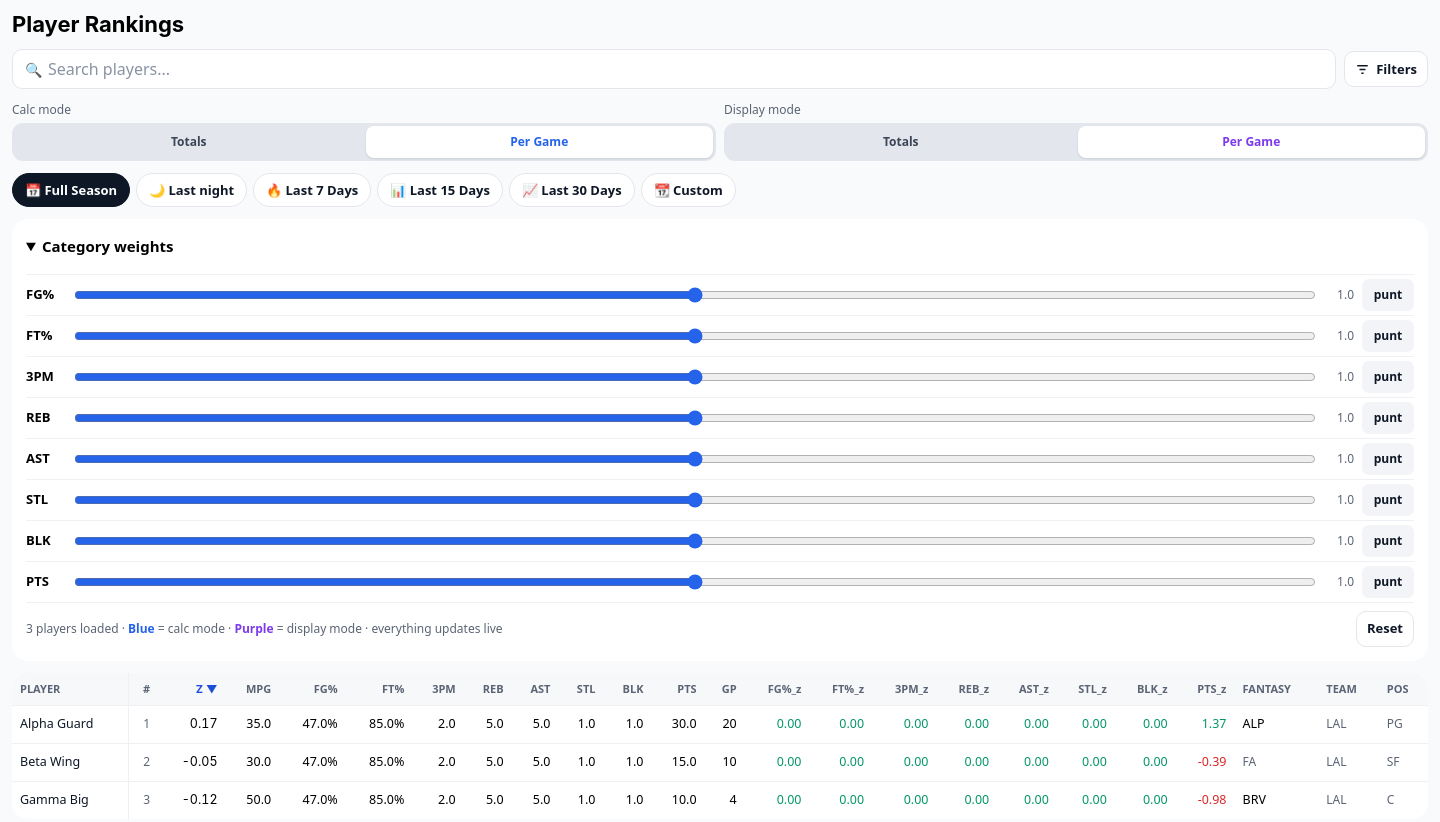
Test: Player Rankings · phone redesign › search filters by name and the × clears it
Expected: the link "Alpha Guard" is shown, [20,715,93,732]
Type "beta" into the search field named "Search players" at [686, 69], box [48,50,1323,88]
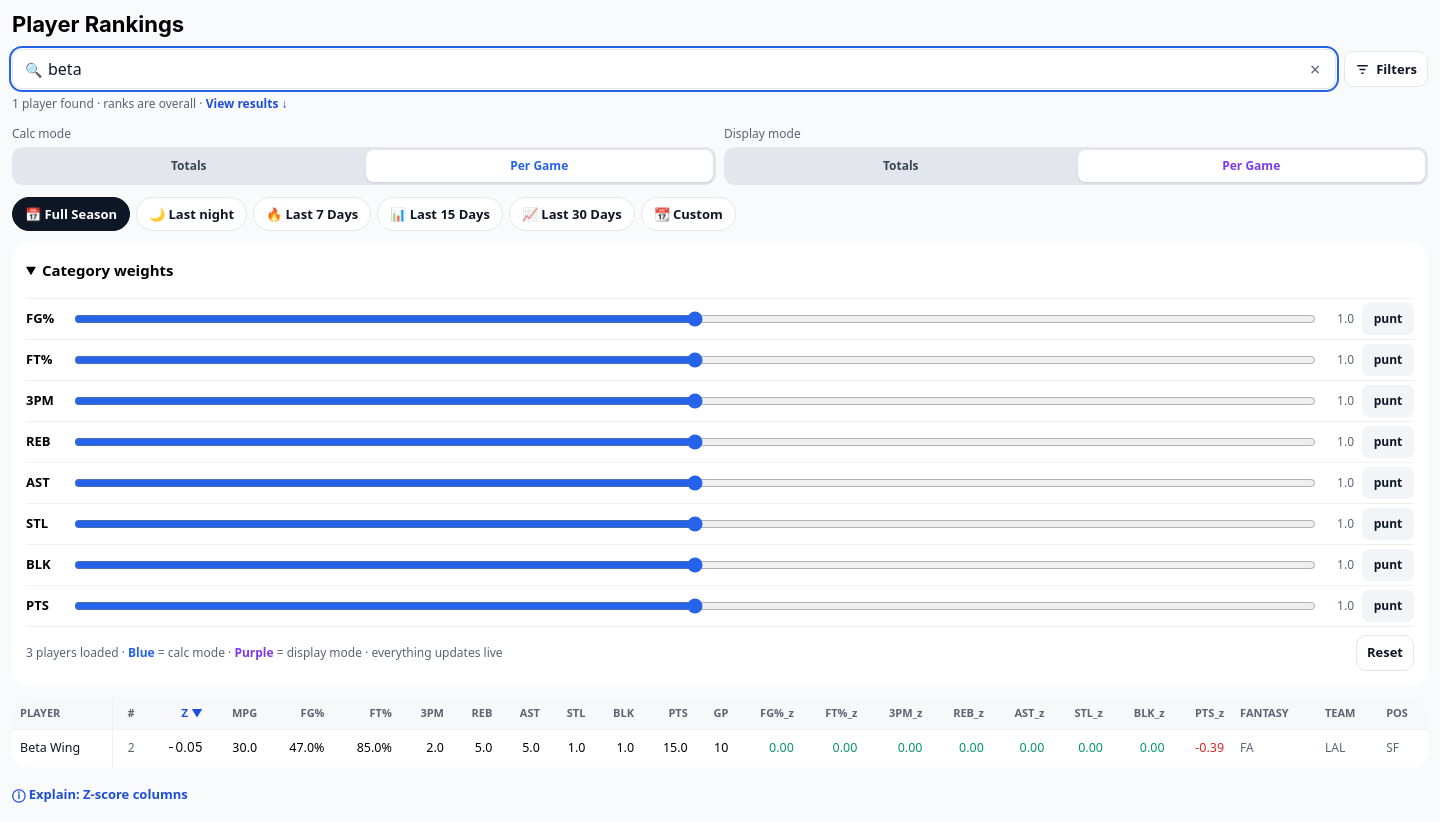
Expected: the link "Alpha Guard" is gone
Expected: the text "1 player found · ranks are overall · View results ↓" is shown, [12,95,288,113]
Click the button named "Clear search" at [1315, 69], box [1299,53,1331,85]
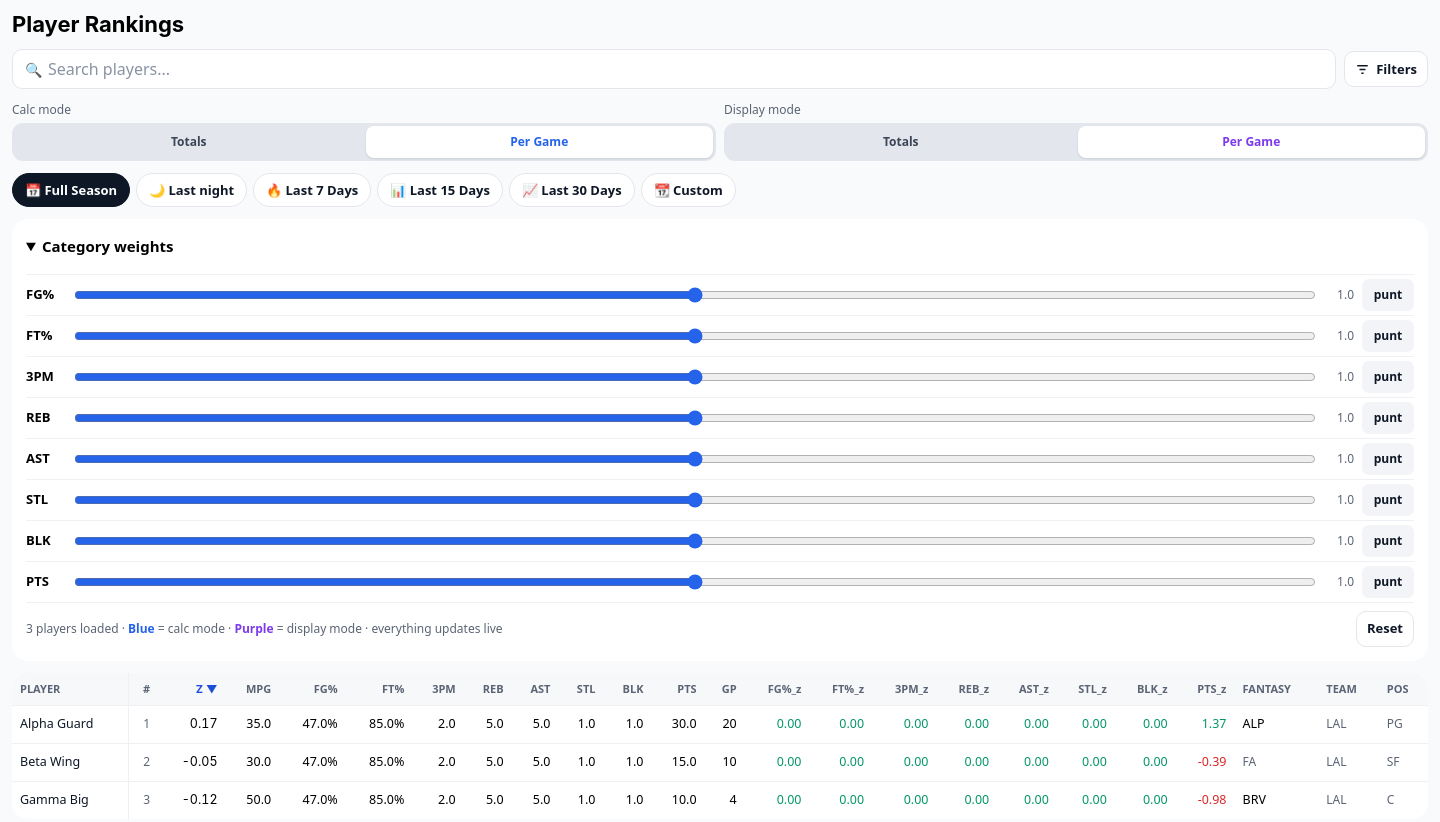
Expected: the link "Alpha Guard" is shown, [20,715,93,732]
